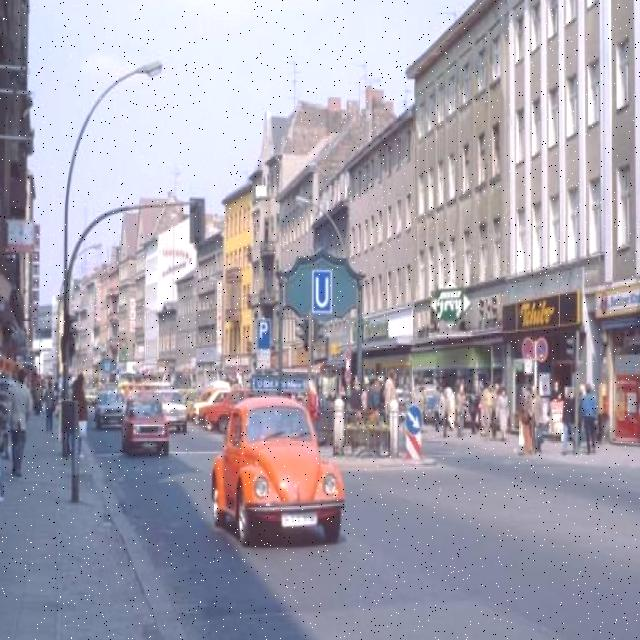car: (210, 392, 348, 545), (118, 394, 172, 448)
